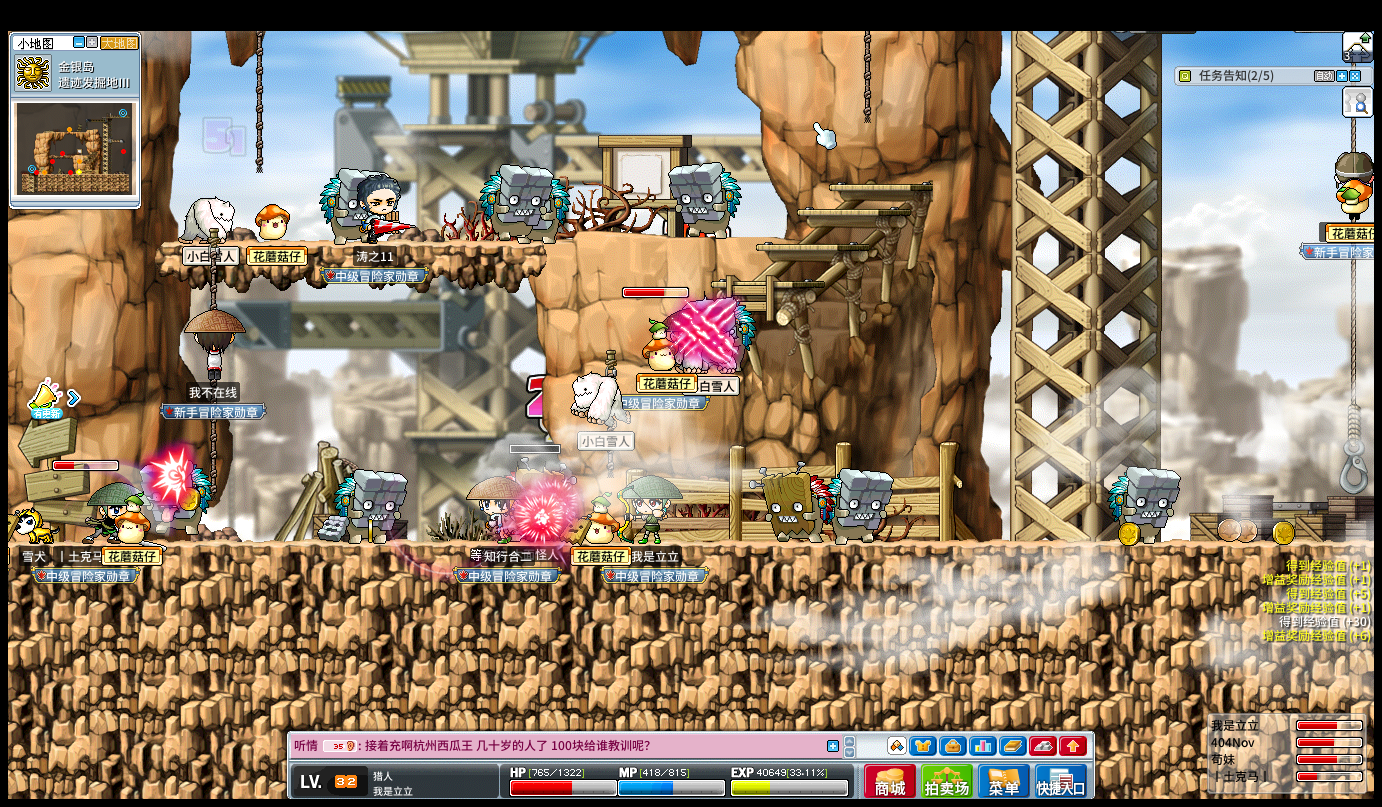floor: (8, 536, 1375, 555), (158, 237, 542, 250), (588, 233, 797, 245), (713, 279, 823, 288), (797, 207, 912, 215), (828, 184, 933, 192), (758, 243, 876, 250)
monster: (754, 461, 833, 544), (479, 164, 555, 245), (1106, 466, 1180, 543), (334, 469, 408, 545), (670, 161, 741, 238), (828, 467, 893, 544), (318, 168, 366, 241)
rope: (255, 31, 267, 178), (862, 31, 872, 122), (208, 420, 219, 500), (1350, 260, 1356, 405), (205, 234, 216, 308), (1348, 407, 1361, 440), (1349, 117, 1358, 153)
